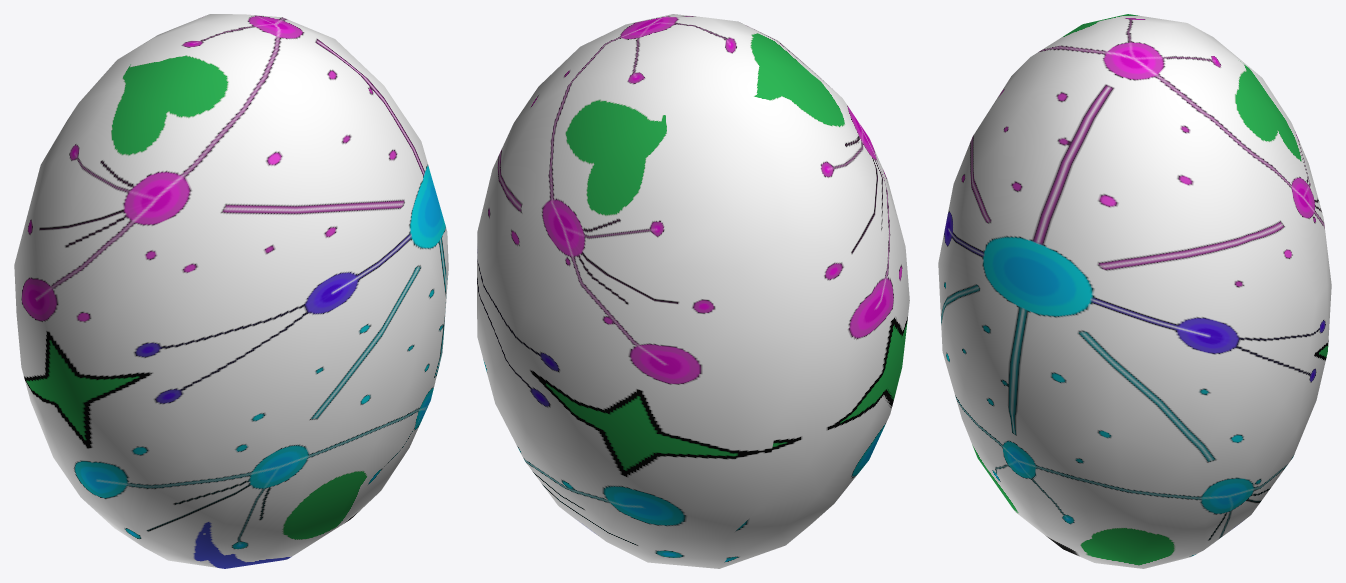
Rendered from mew_egg.glb.
3 renders of one model, left to right at view 1: azimuth 30°, elevation 25°; view 2: azimuth 150°, elevation 25°; view 3: azimuth 270°, elevation 25°, orthographic.
Visible parts, largest first — view 1: Sphere.001; view 2: Sphere.001; view 3: Sphere.001.
Boxes of the visible parts, box(x1,y1,x2,y2) form: Sphere.001: box(14, 14, 448, 568); Sphere.001: box(477, 14, 909, 568); Sphere.001: box(938, 14, 1331, 568).
Bounding box in the file's own units: 0.0358 × 0.0468 × 0.032.
Materials: 1 (1 with a texture image).
